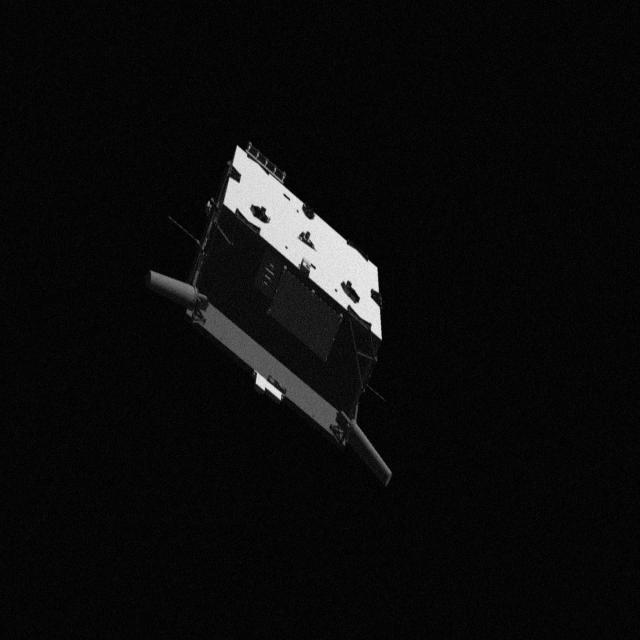medium_debris: (152, 142, 412, 488)
